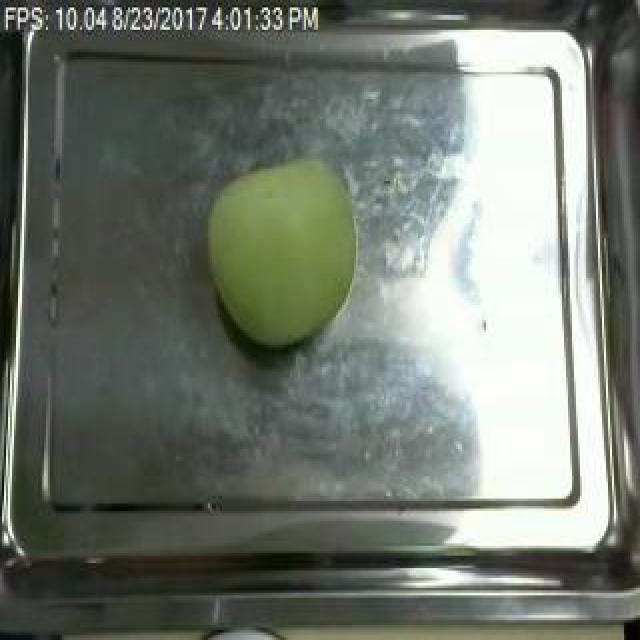Rotten Apple: (202, 139, 378, 379)
